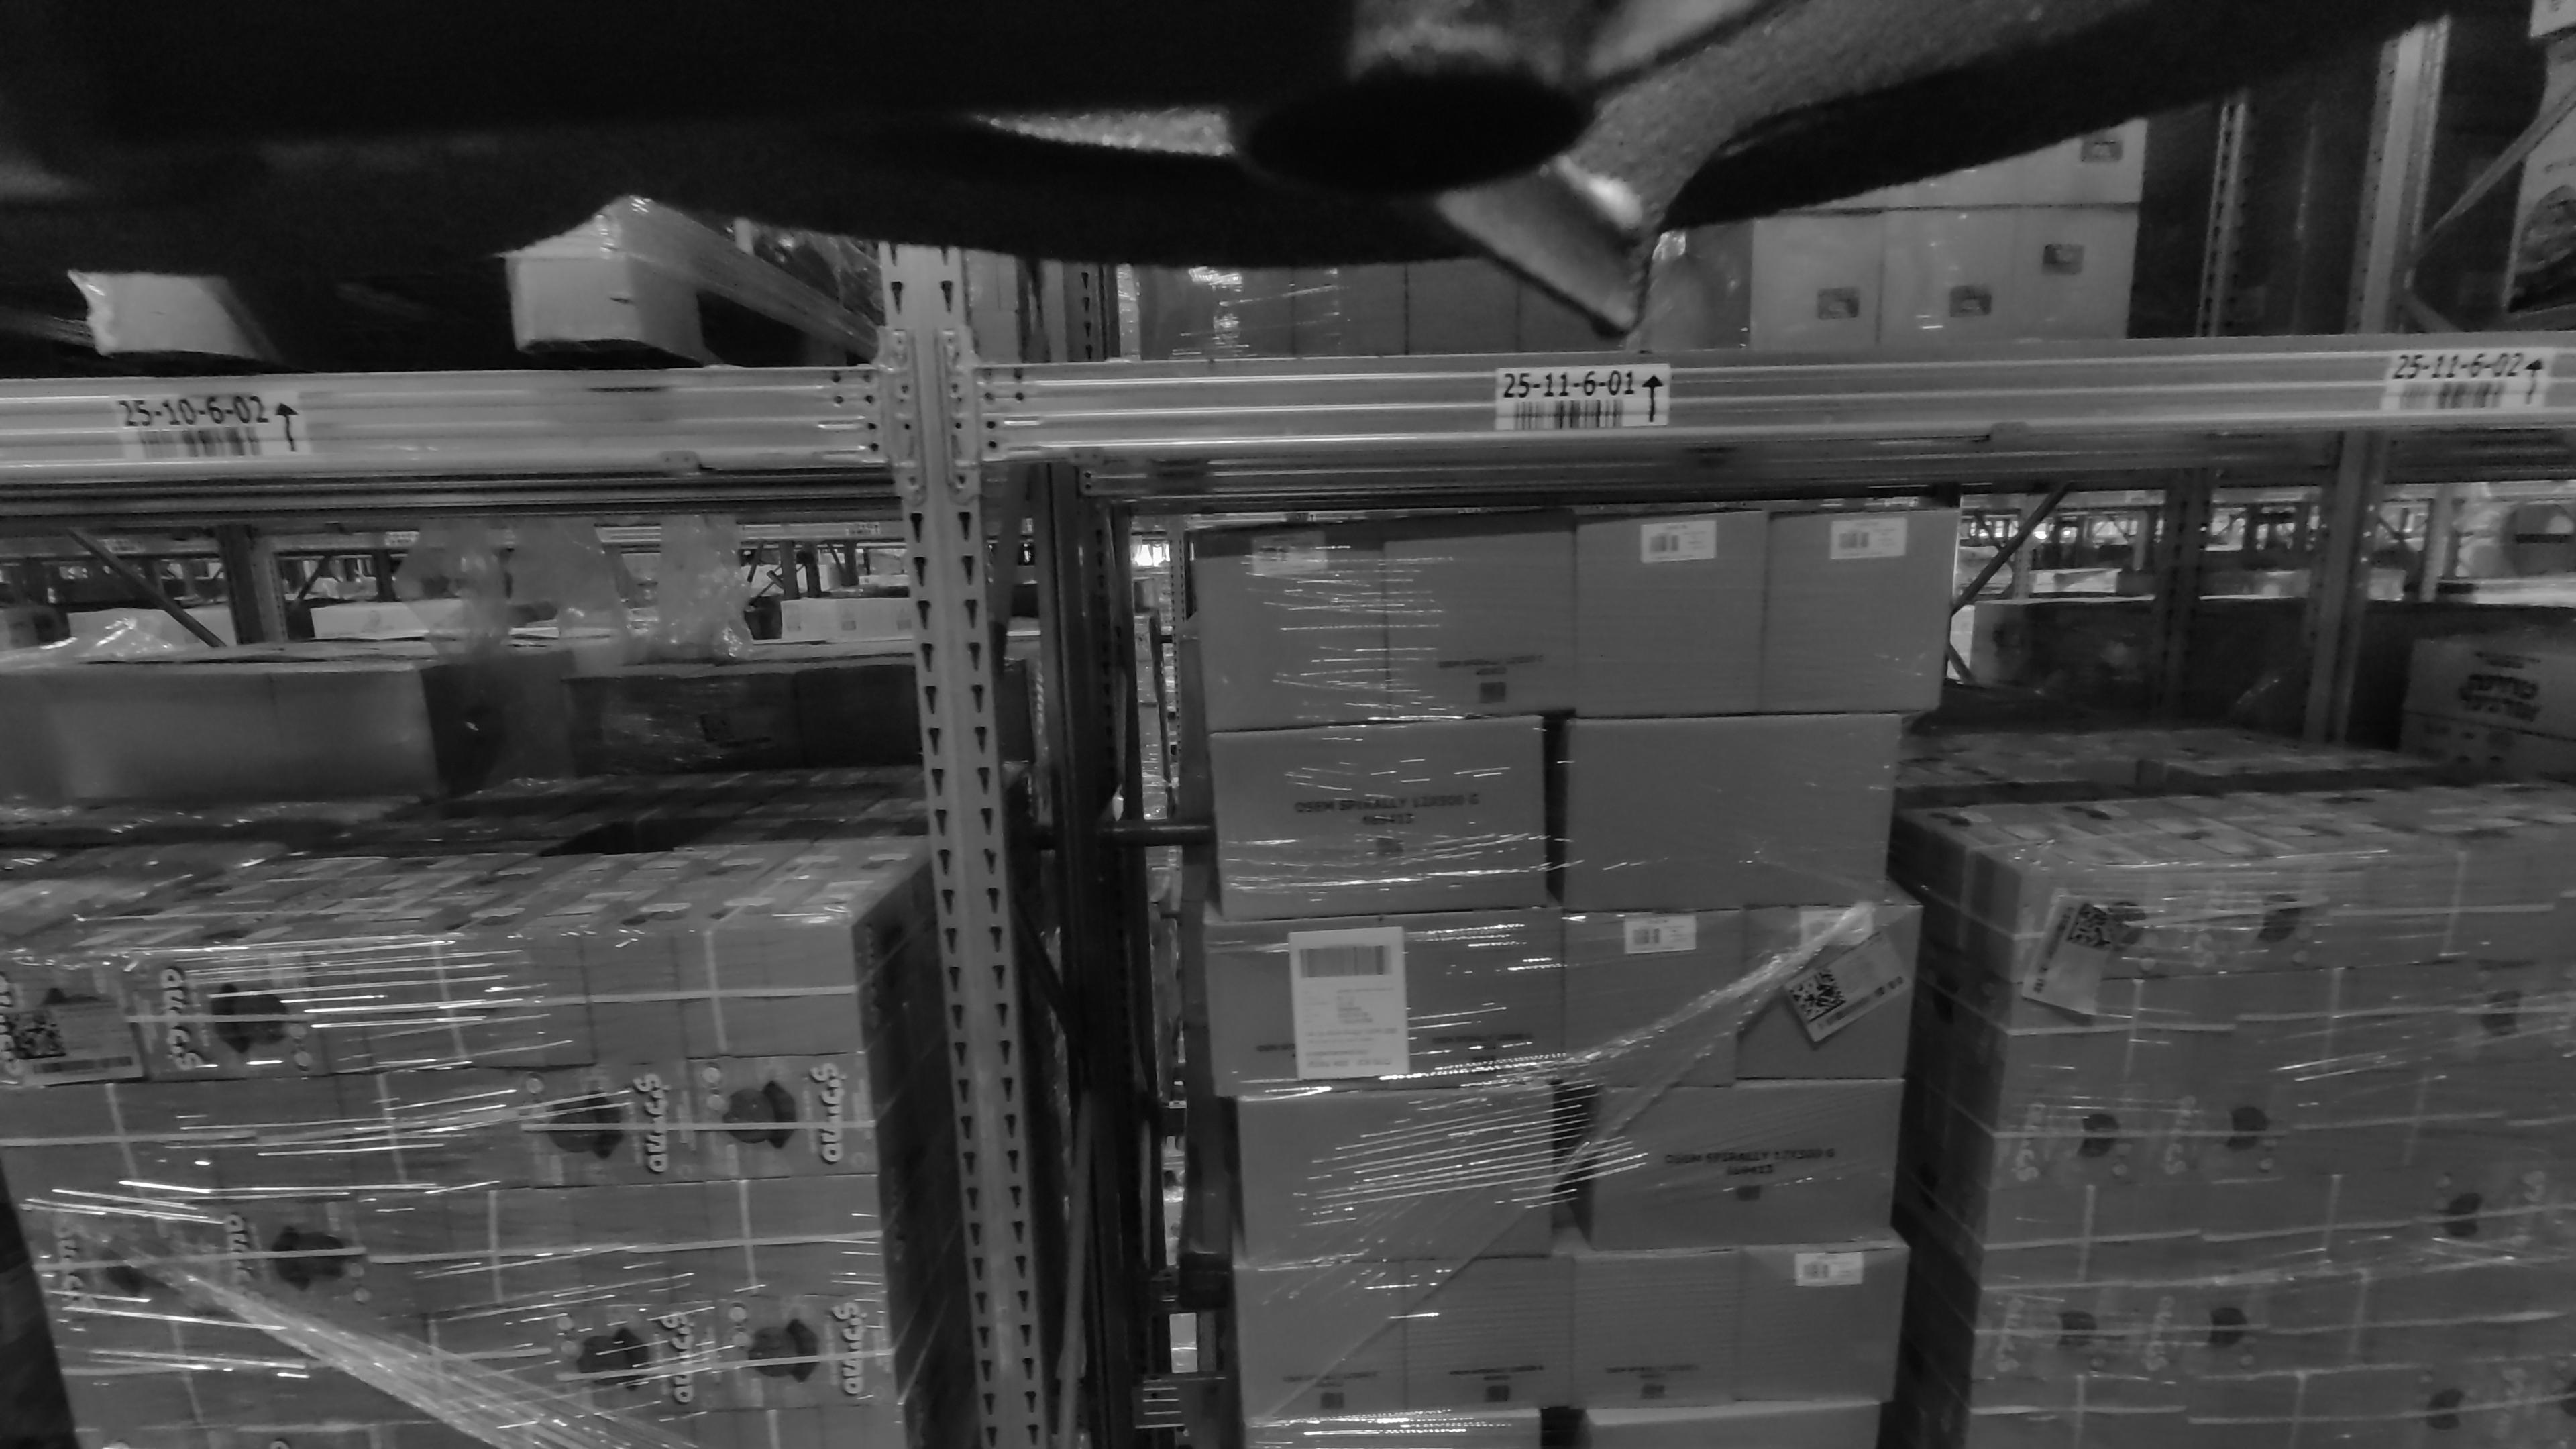empty-shelf: (1898, 7, 2576, 336), (1014, 138, 1760, 347)
